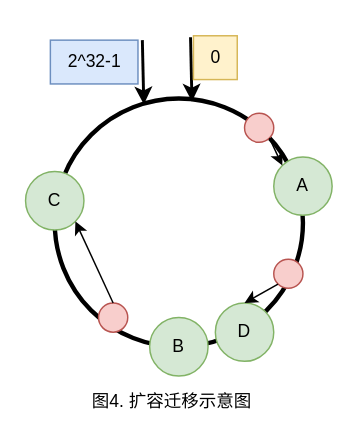
Image size: 358x448. Some labels were removed from this diagram. The shapes that lost their labels are listed below. From the top down, each one's centre as x and y in pixels, then its label:
the point at 258,127: k1
the point at 287,273: k2
the point at 112,316: k3
